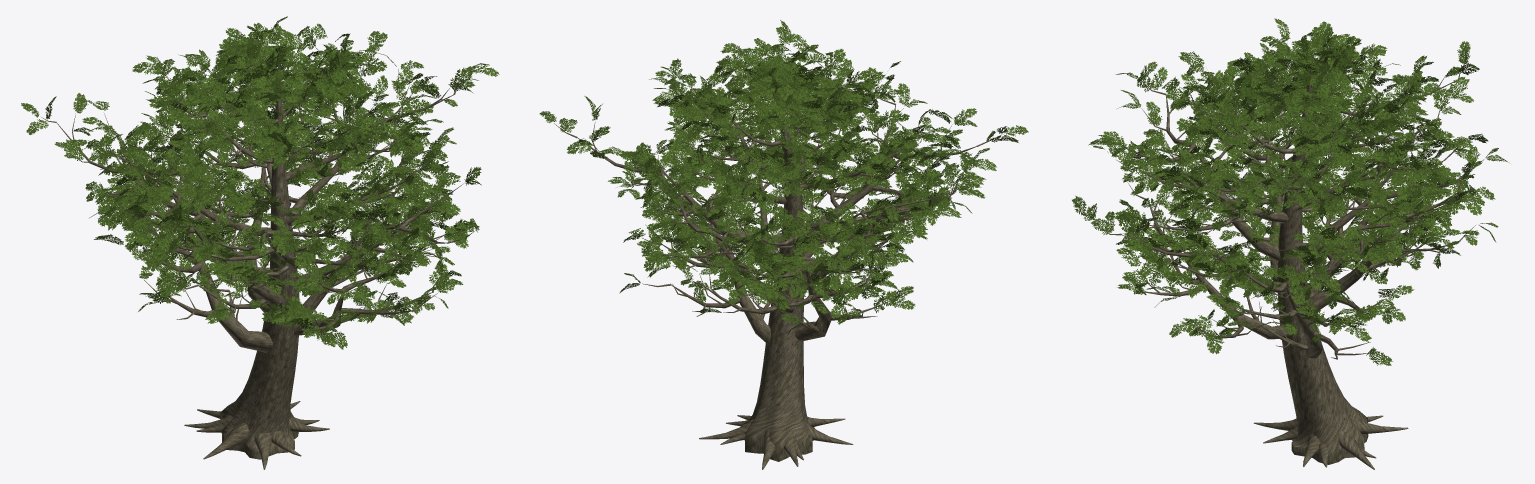
File: AncientOak.fbx
3 renders of one model, left to right at view 1: azimuth 30°, elevation 25°; view 2: azimuth 150°, elevation 25°; view 3: azimuth 270°, elevation 25°, orthographic. The views are drawn at different scales.
Parts seen in each view (by area): view 1: AncientOak_LOD0; view 2: AncientOak_LOD0; view 3: AncientOak_LOD0.
Boxes of the visible parts, left/top/right/bottom form: AncientOak_LOD0: left=21, top=16, right=499, bottom=469; AncientOak_LOD0: left=539, top=20, right=1028, bottom=469; AncientOak_LOD0: left=1072, top=18, right=1508, bottom=469.
Size of what is drawn, in the model's own units: 2333 by 2082 by 2078.
Materials: 2 (2 with a texture image).
